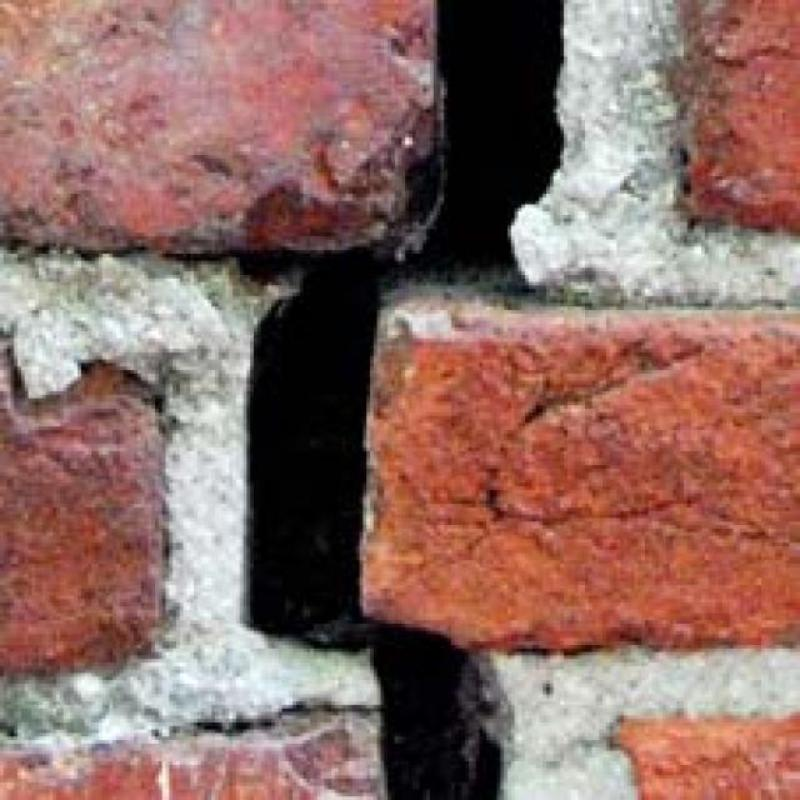pothole: (242, 1, 561, 800)
